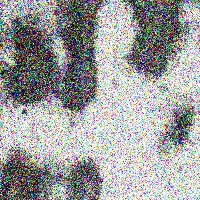patches: (58, 1, 104, 110), (5, 21, 56, 104), (127, 1, 181, 79), (0, 149, 48, 200), (68, 157, 105, 200), (168, 103, 193, 149)
